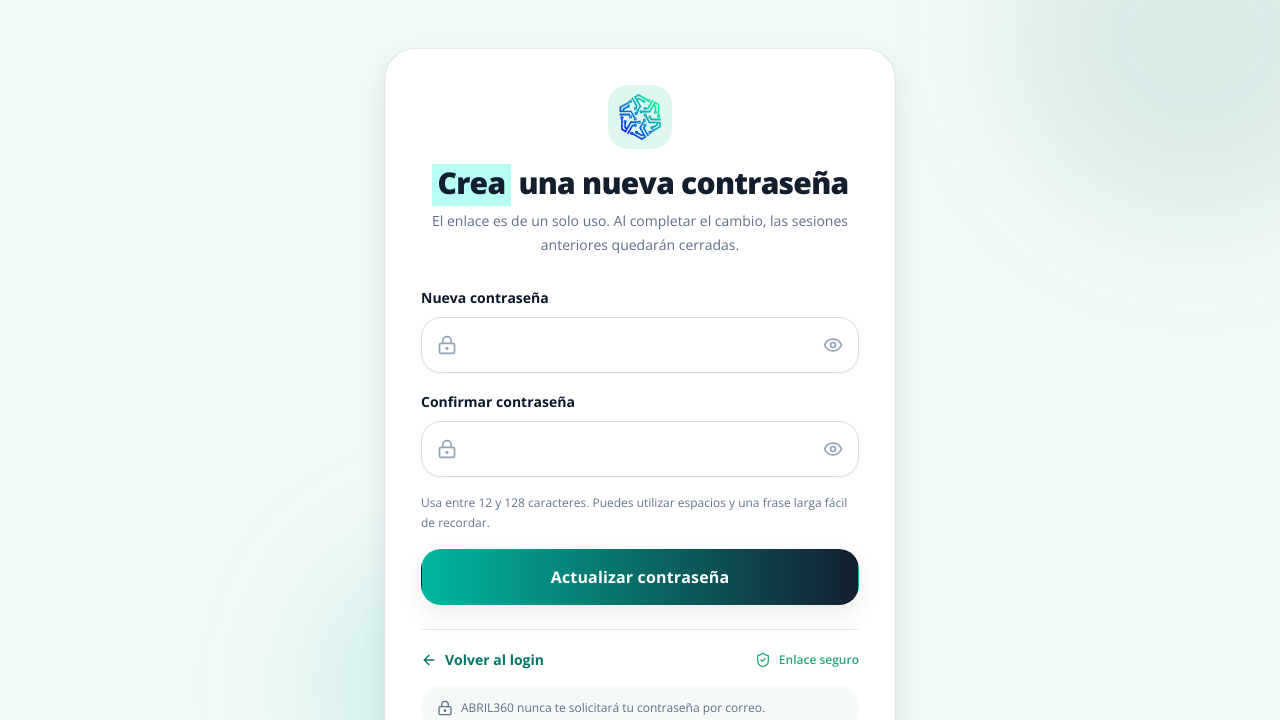
Test: recuperación de contraseña › consume el token y permite volver al login
The image size is (1280, 720).
In the password field labelled "Nueva contraseña": (640, 345) x1=421 y1=317 x2=859 y2=373, type "NuevaClave!2026"
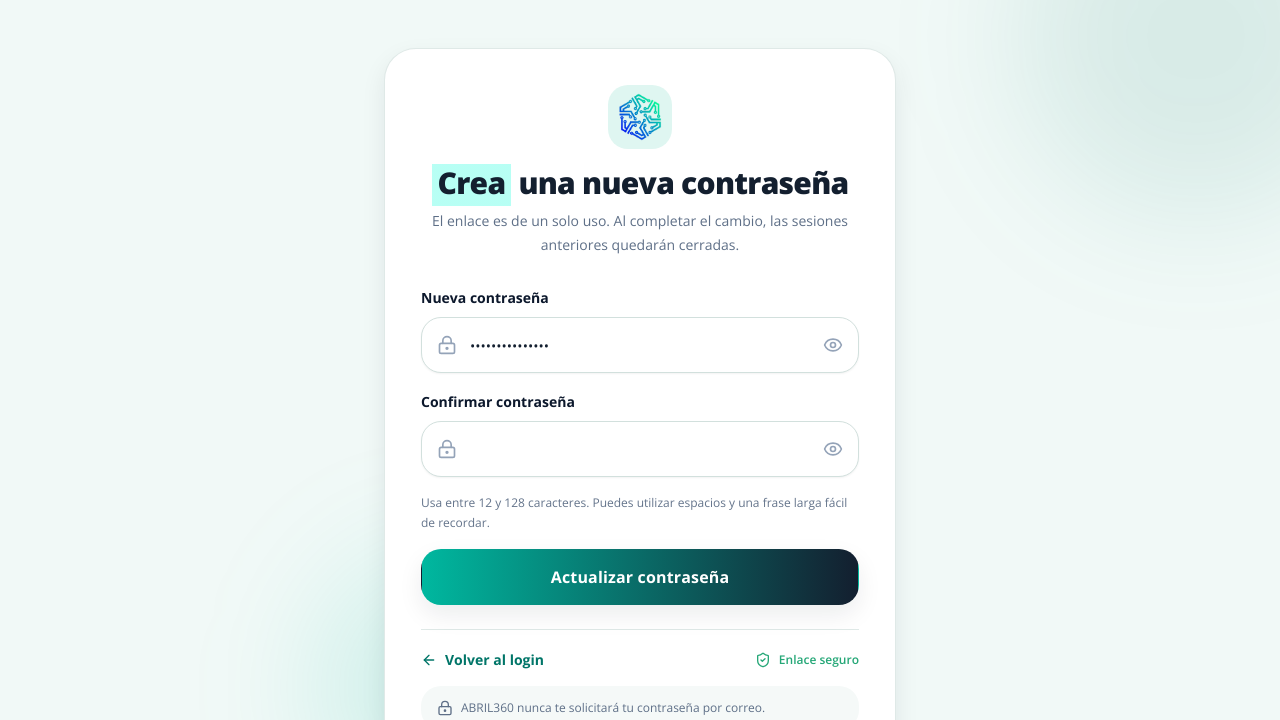
In the password field labelled "Confirmar contraseña": (640, 449) x1=421 y1=421 x2=859 y2=477, type "NuevaClave!2026"
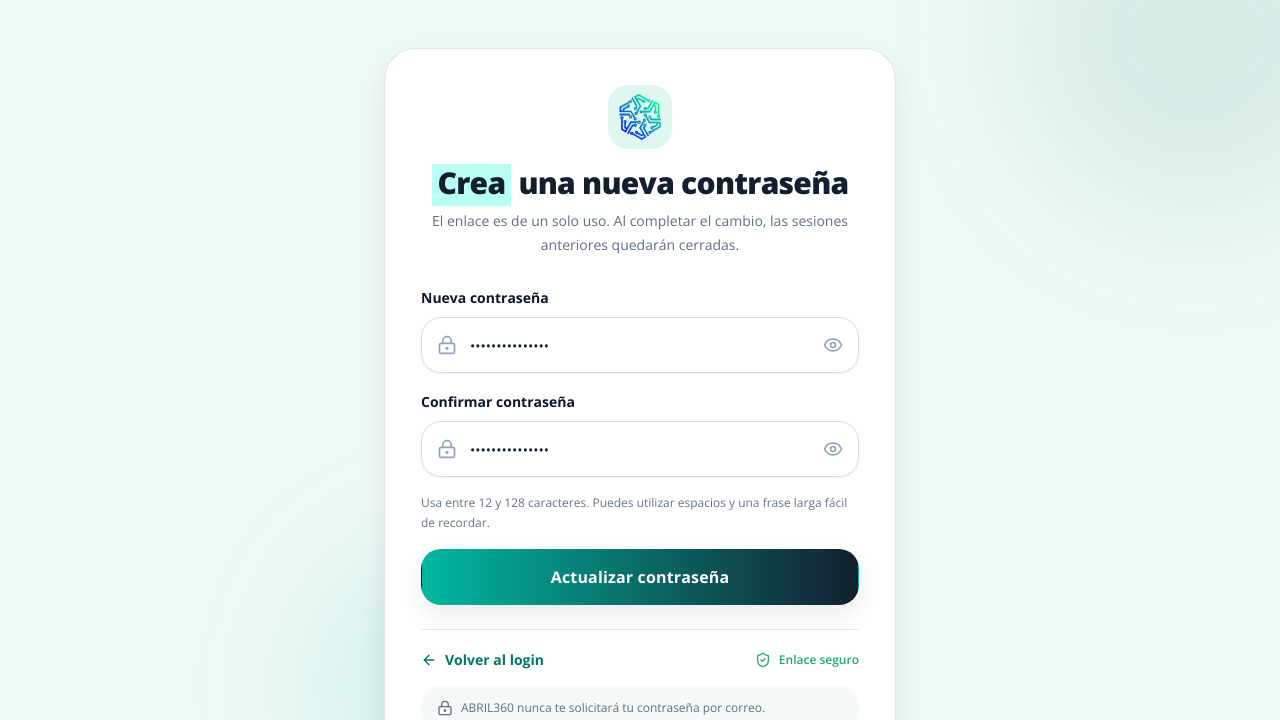
Click the button "Actualizar contraseña": (640, 577) x1=421 y1=549 x2=859 y2=605
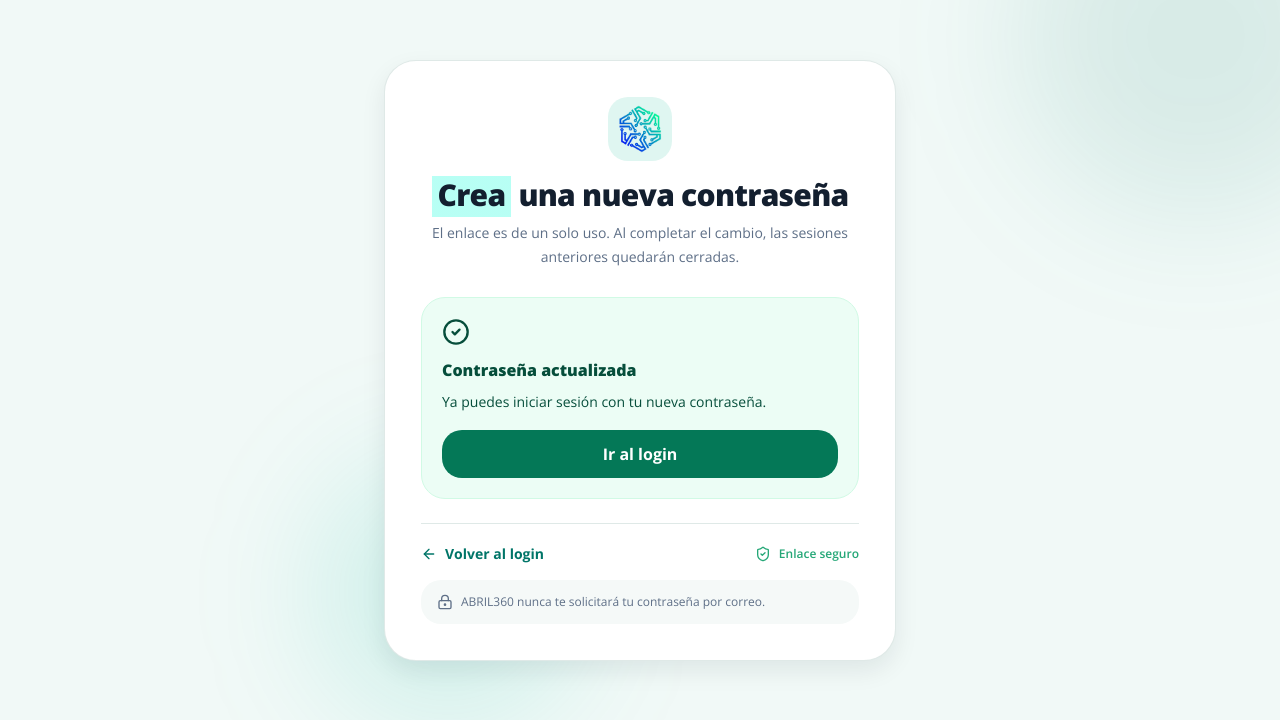
Expected: the text "Contraseña actualizada" is shown, x1=442 y1=358 x2=636 y2=380
Expected: the link "Ir al login" is shown, x1=442 y1=430 x2=838 y2=478
